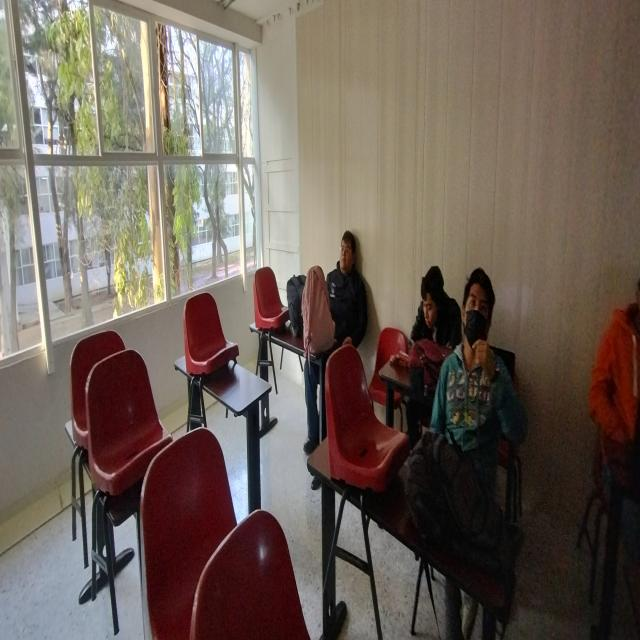adult: (430, 266, 526, 464), (305, 232, 368, 454), (412, 267, 461, 340)
